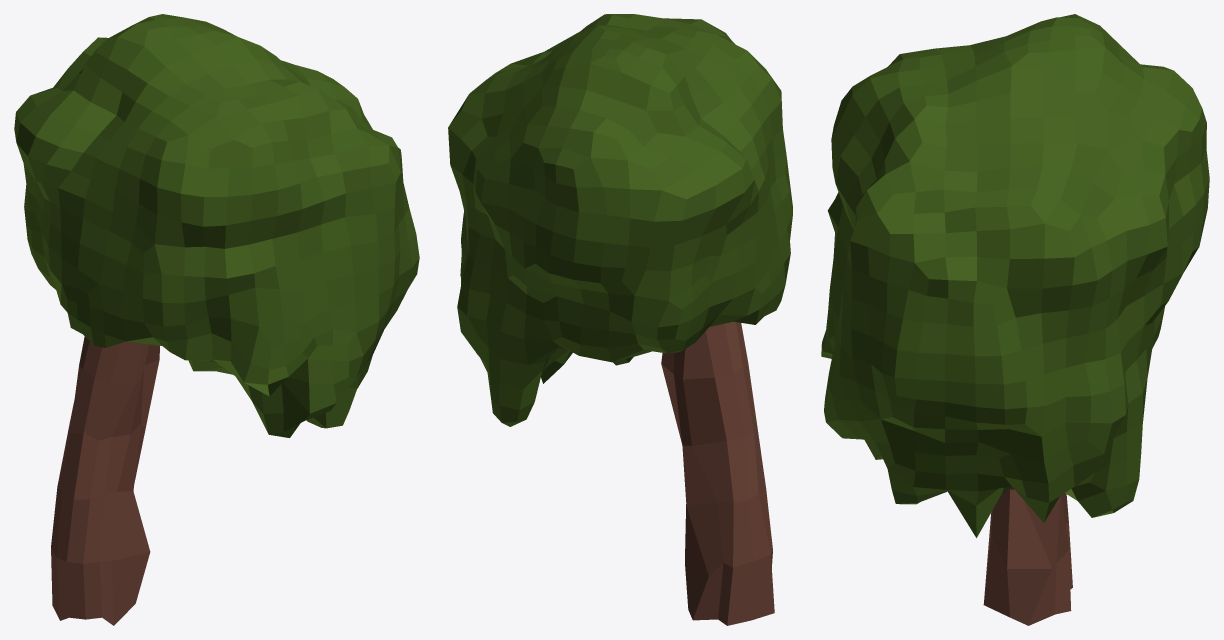
File: realwonkytree.fbx
3 views of the same model, side by side, from view 1: azimuth 30°, elevation 25°; view 2: azimuth 150°, elevation 25°; view 3: azimuth 270°, elevation 25° (orthographic). The views are drawn at different scales.
Visible parts, largest first — view 1: wonky tree; view 2: wonky tree; view 3: wonky tree.
Part boxes in pixels (x1,y1,x2,y2): wonky tree: [14, 14, 419, 625]; wonky tree: [448, 14, 792, 625]; wonky tree: [821, 14, 1209, 625].
Size of the model in its own units: 711 by 1202 by 677.
